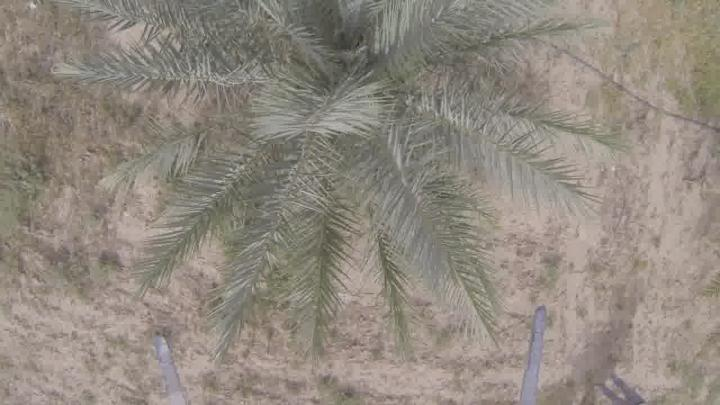Date-Palm-Crown: (191, 0, 479, 266)
